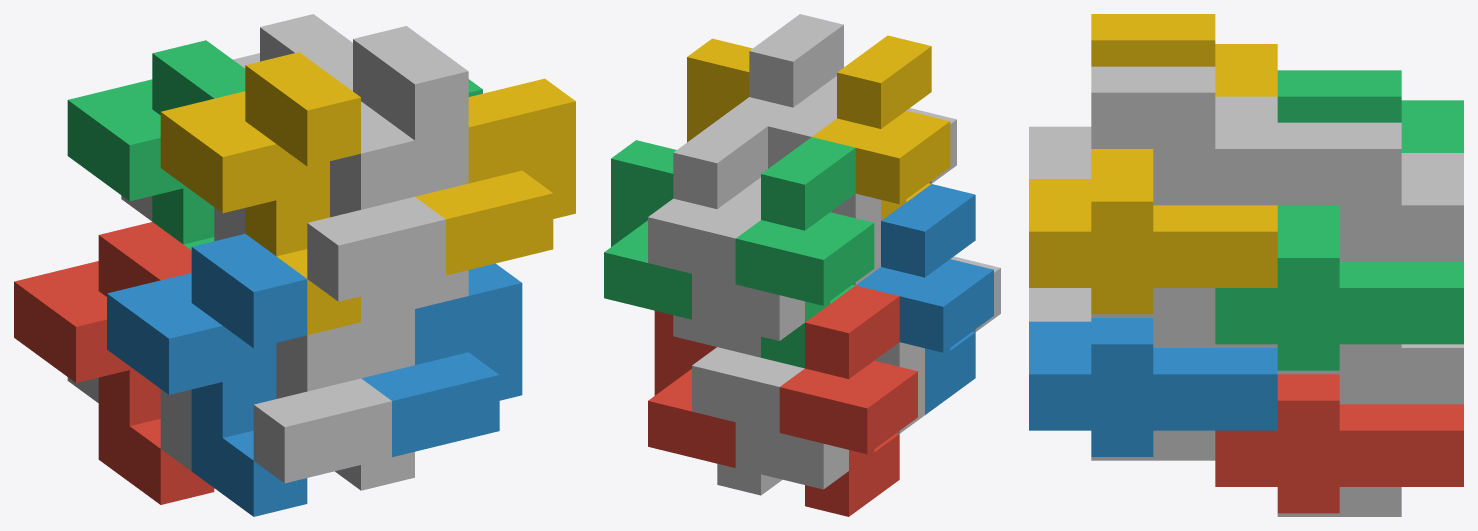
File: tiling.obj
3 renders of one model, left to right at view 1: azimuth 30°, elevation 25°; view 2: azimuth 150°, elevation 25°; view 3: azimuth 270°, elevation 25°, orthographic. The views are drawn at different scales.
Parts seen in each view (by area): view 1: copy_1_domain_2, copy_1_domain_4, copy_1_domain_1, copy_2_domain_4, copy_2_domain_8, copy_2_domain_2, copy_2_domain_6, copy_1_domain_3, copy_1_domain_8, copy_1_domain_7, copy_1_domain_6, copy_2_domain_1 (+1 smaller); view 2: copy_1_domain_1, copy_1_domain_3, copy_1_domain_2, copy_1_domain_4, copy_1_domain_7, copy_1_domain_8, copy_2_domain_7, copy_1_domain_5, copy_2_domain_5, copy_2_domain_3, copy_2_domain_1, copy_2_domain_8 (+2 smaller); view 3: copy_2_domain_8, copy_2_domain_6, copy_2_domain_7, copy_1_domain_7, copy_1_domain_8, copy_2_domain_5, copy_1_domain_3, copy_1_domain_4, copy_1_domain_5, copy_1_domain_6, copy_2_domain_4, copy_2_domain_2.
Boxes of the visible parts, x1,y1,x2,y2 form: copy_1_domain_2: [107, 233, 307, 516]; copy_1_domain_4: [160, 52, 360, 335]; copy_1_domain_1: [14, 222, 214, 504]; copy_2_domain_4: [214, 118, 468, 301]; copy_2_domain_8: [415, 78, 575, 275]; copy_2_domain_2: [160, 309, 414, 483]; copy_2_domain_6: [361, 263, 522, 457]; copy_1_domain_3: [67, 40, 245, 250]; copy_1_domain_8: [326, 26, 468, 308]; copy_1_domain_7: [233, 14, 352, 71]; copy_1_domain_6: [335, 283, 414, 490]; copy_2_domain_1: [67, 377, 191, 471]; copy_1_domain_1: [779, 285, 917, 516]; copy_1_domain_3: [735, 137, 874, 368]; copy_1_domain_2: [856, 184, 993, 414]; copy_1_domain_4: [812, 35, 950, 220]; copy_1_domain_7: [648, 115, 767, 346]; copy_1_domain_8: [724, 14, 843, 168]; copy_2_domain_7: [604, 140, 691, 319]; copy_1_domain_5: [692, 326, 804, 495]; copy_2_domain_5: [648, 310, 735, 467]; copy_2_domain_3: [692, 177, 880, 340]; copy_2_domain_1: [735, 369, 924, 489]; copy_2_domain_8: [687, 38, 752, 142]; copy_2_domain_8: [1029, 149, 1277, 314]; copy_2_domain_6: [1029, 318, 1277, 456]; copy_2_domain_7: [1215, 205, 1463, 370]; copy_1_domain_7: [1277, 122, 1463, 374]; copy_1_domain_8: [1091, 66, 1277, 317]; copy_2_domain_5: [1215, 374, 1463, 513]; copy_1_domain_3: [1277, 70, 1463, 152]; copy_1_domain_4: [1091, 14, 1277, 96]; copy_1_domain_5: [1277, 344, 1463, 516]; copy_1_domain_6: [1091, 318, 1277, 460]; copy_2_domain_4: [1029, 126, 1091, 178]; copy_2_domain_2: [1029, 288, 1091, 321].
Size of the model in its own units: 7 by 8 by 7.
